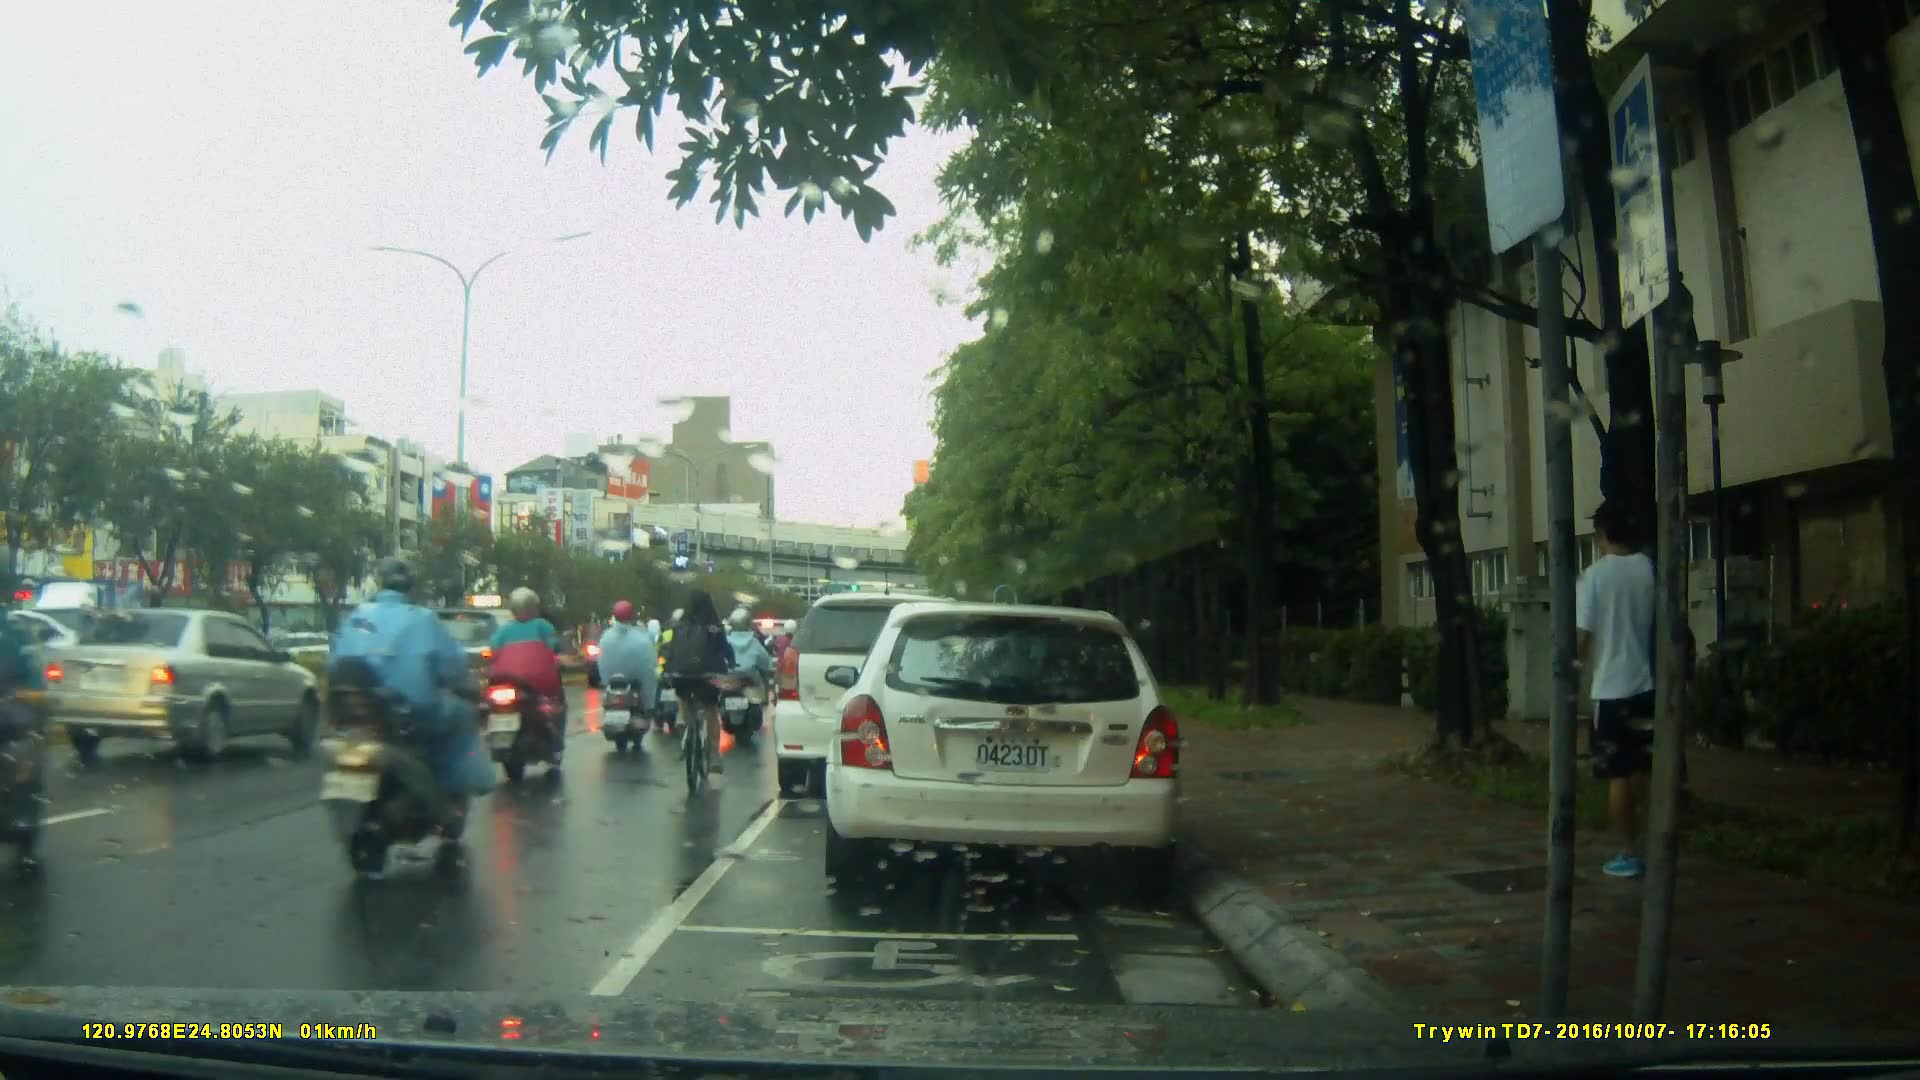pedestrian: (1572, 490, 1696, 918)
rider: (325, 548, 502, 875), (478, 586, 572, 782), (1, 567, 53, 864), (666, 591, 734, 796), (601, 598, 661, 755), (713, 607, 768, 731), (727, 606, 773, 731), (653, 604, 696, 719)
vehicle: (822, 604, 1188, 882), (774, 595, 995, 802), (29, 603, 321, 759), (389, 606, 564, 716)
